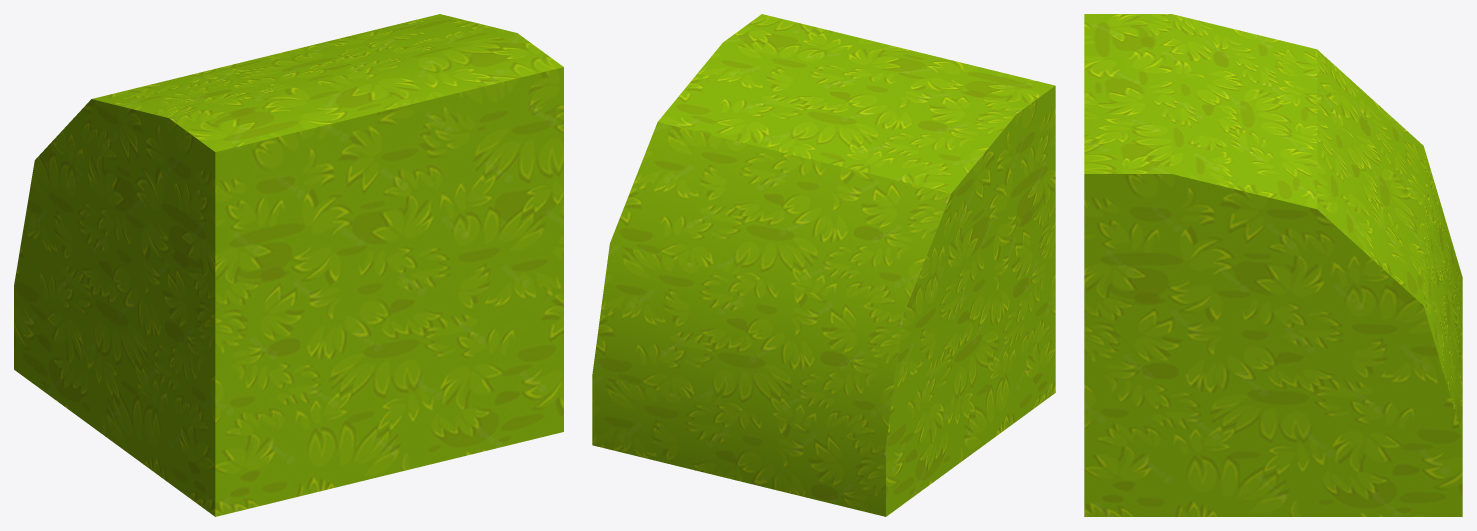
File: POL0410007.fbx
The picture shows the model from 3 angles, left to right: view 1: azimuth 30°, elevation 25°; view 2: azimuth 150°, elevation 25°; view 3: azimuth 270°, elevation 25°; orthographic projection. The views are drawn at different scales.
Visible parts, largest first — view 1: smPOL0410007; view 2: smPOL0410007; view 3: smPOL0410007.
Part boxes in pixels (<box>): smPOL0410007: <box>14,14,563,516</box>; smPOL0410007: <box>592,14,1055,516</box>; smPOL0410007: <box>1084,14,1462,516</box>.
Size of the model in its own units: 161 by 161 by 161.
1 material, 1 textured.
